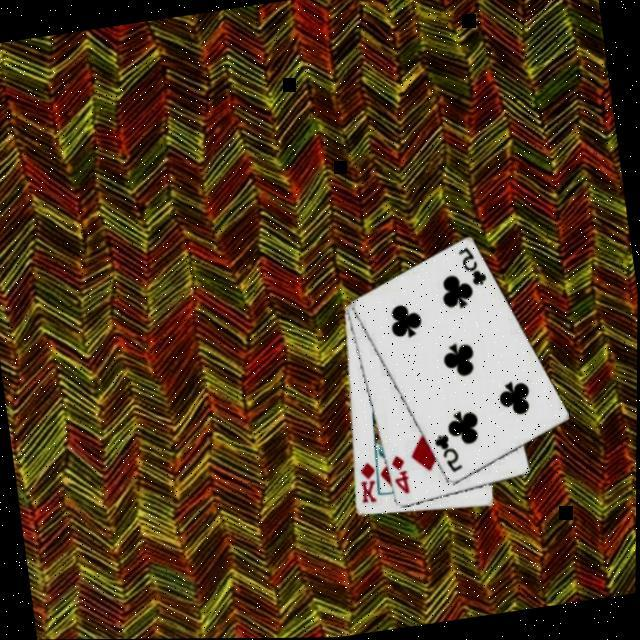4D: (386, 450, 412, 497)
5C: (430, 428, 466, 477), (454, 240, 489, 290)
KD: (354, 457, 382, 506)
